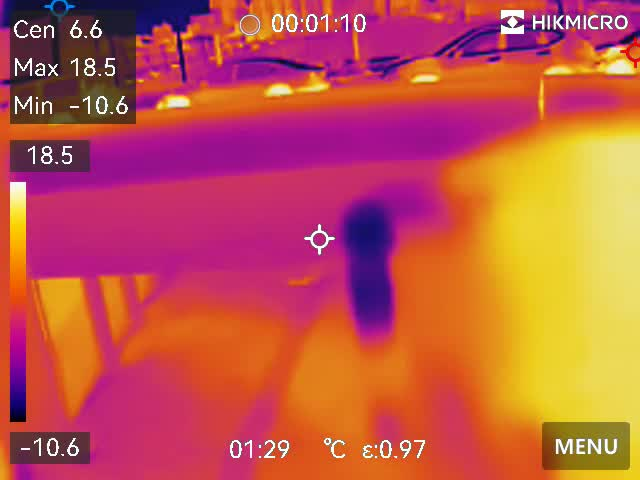largeCar: (367, 17, 608, 85)
smallCar: (149, 57, 338, 108)
